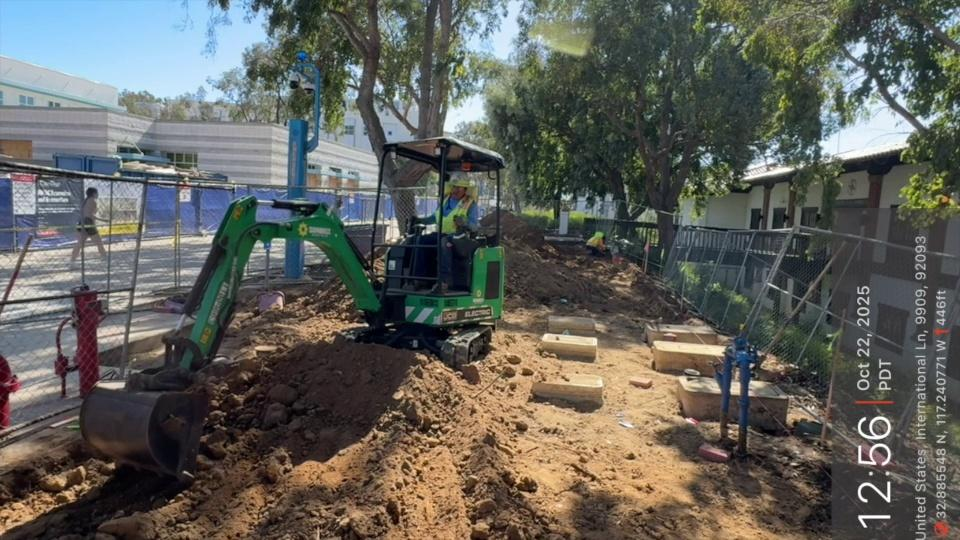Exacavator: (77, 133, 508, 483)
